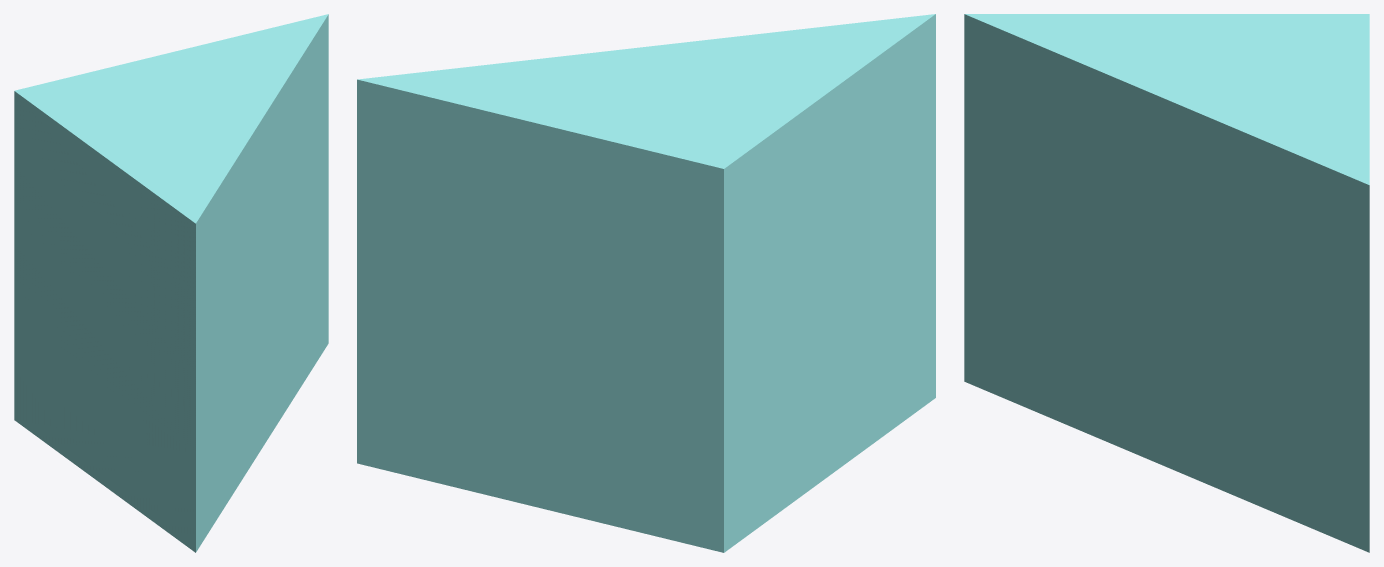
File: OneWay_VerticalSlope.glb
3 renders of one model, left to right at view 1: azimuth 30°, elevation 25°; view 2: azimuth 150°, elevation 25°; view 3: azimuth 270°, elevation 25°, orthographic. The views are drawn at different scales.
Parts seen in each view (by area): view 1: OneWay_VerticalSlope_body; view 2: OneWay_VerticalSlope_body; view 3: OneWay_VerticalSlope_body.
Part boxes in pixels (x1,y1,x2,y2): OneWay_VerticalSlope_body: [14, 14, 328, 552]; OneWay_VerticalSlope_body: [357, 14, 935, 552]; OneWay_VerticalSlope_body: [964, 14, 1369, 552].
Size of the model in its own units: 1 by 1 by 1.
